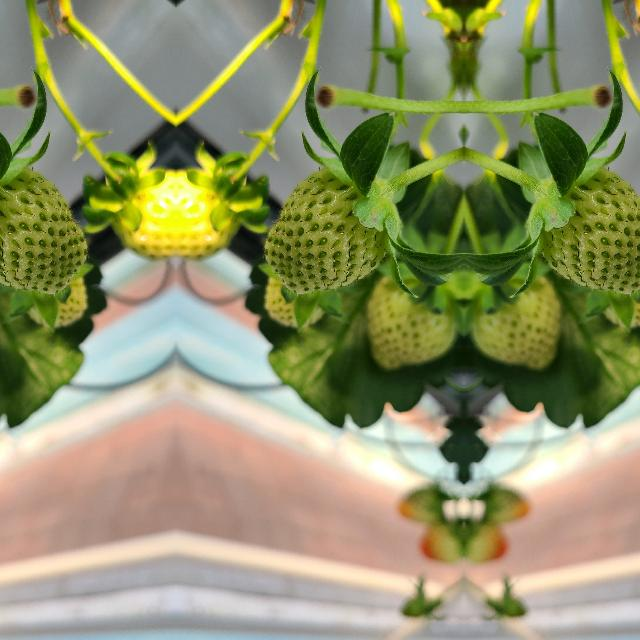Health_25: (264, 168, 386, 292), (539, 168, 640, 292), (0, 168, 86, 292)
